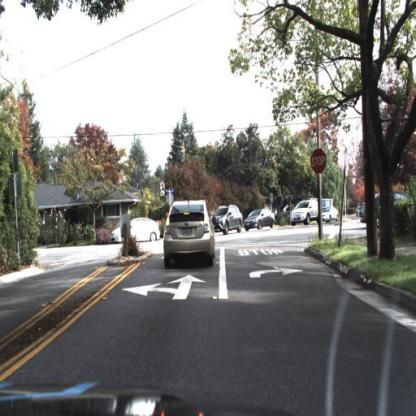car: (164, 200, 213, 267), (108, 215, 161, 242), (214, 203, 245, 236), (289, 199, 322, 226), (245, 207, 273, 230)
